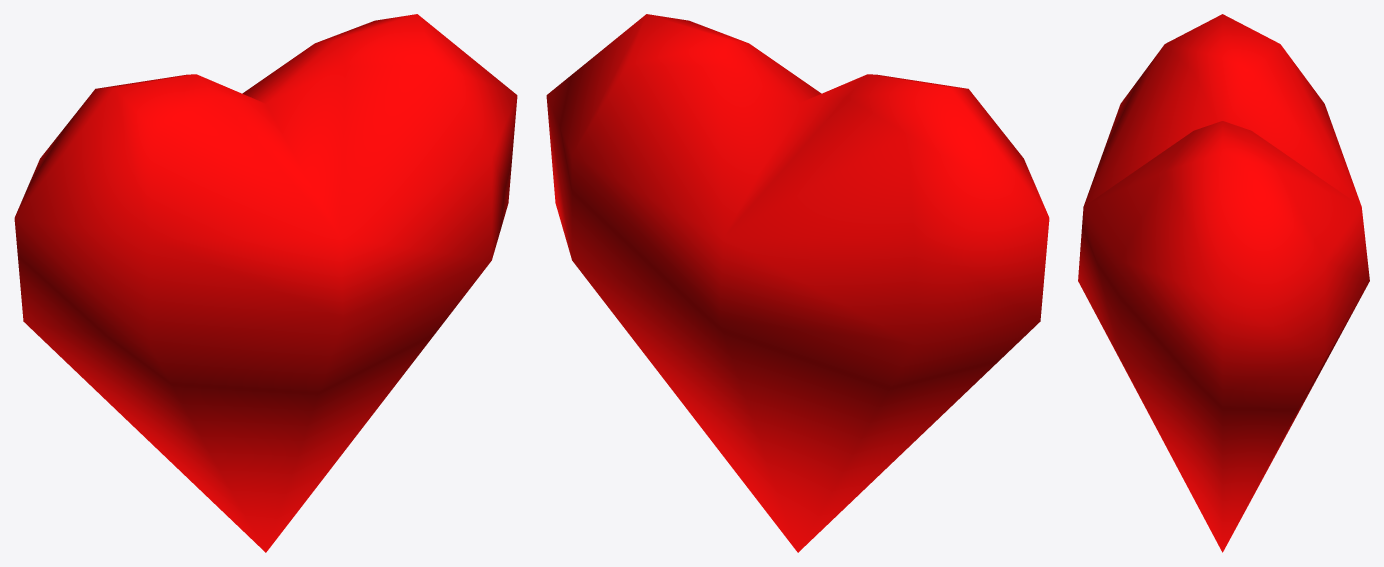
The model's file is coeur.dae.
3 renders of one model, left to right at view 1: azimuth 30°, elevation 25°; view 2: azimuth 150°, elevation 25°; view 3: azimuth 270°, elevation 25°, orthographic. The views are drawn at different scales.
Parts seen in each view (by area): view 1: Cylinder_003; view 2: Cylinder_003; view 3: Cylinder_003.
Part boxes in pixels (x1,y1,x2,y2): Cylinder_003: [14, 14, 517, 552]; Cylinder_003: [546, 14, 1049, 552]; Cylinder_003: [1078, 14, 1369, 552].
Size of the model in its own units: 1.99 by 1.07 by 1.9.
